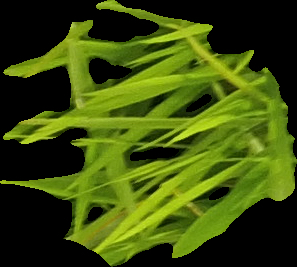grass: (1, 2, 296, 265)
